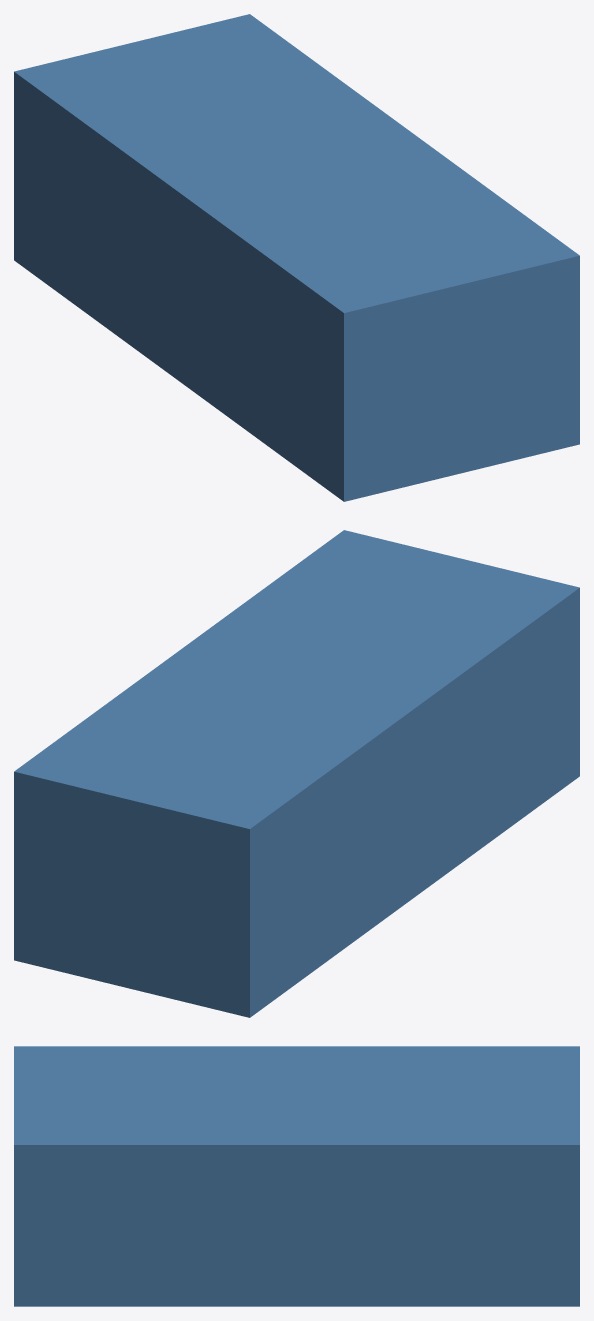
Rendered from ticket_machine.glb.
3 views of the same model, one above another, from view 1: azimuth 30°, elevation 25°; view 2: azimuth 150°, elevation 25°; view 3: azimuth 270°, elevation 25° (orthographic). The views are drawn at different scales.
Parts seen in each view (by area): view 1: 0000_Ticket_machine; view 2: 0000_Ticket_machine; view 3: 0000_Ticket_machine.
Part boxes in pixels (<box>): 0000_Ticket_machine: <box>14,14,579,501</box>; 0000_Ticket_machine: <box>14,530,579,1017</box>; 0000_Ticket_machine: <box>14,1046,579,1306</box>.
Size of the model in its own units: 0.85 by 0.6755 by 2.06.
